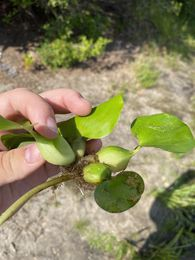water_hyacinth: (0, 85, 195, 215)
